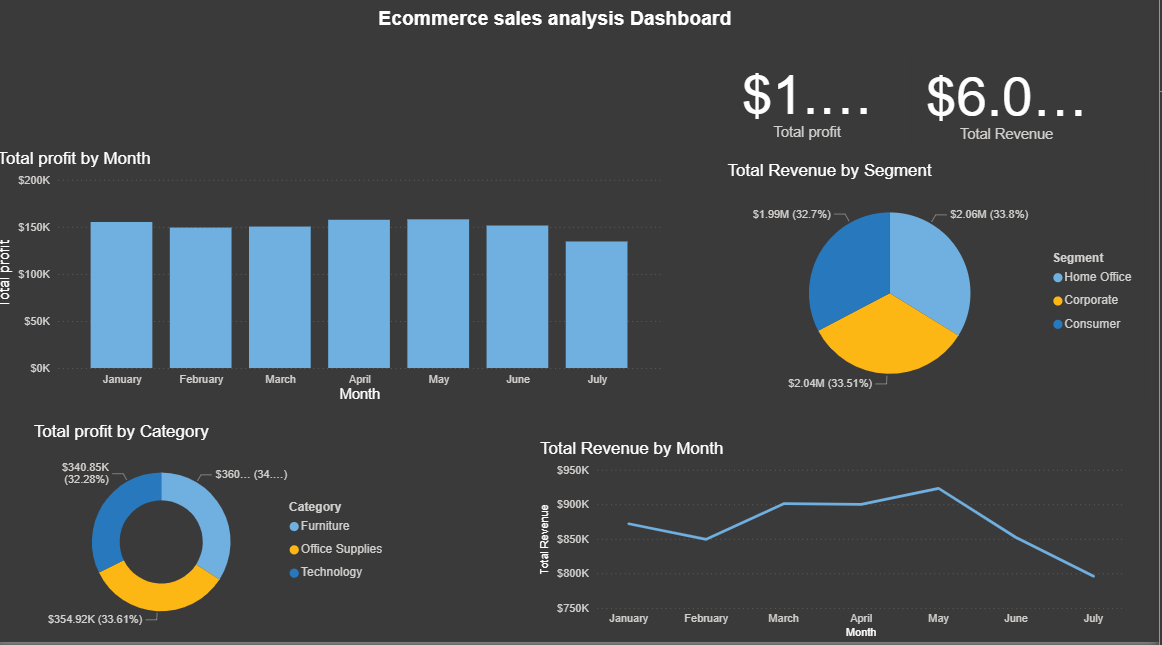

This screenshot's page, from the dashboard's own definition file:
{"tool":"powerbi","page":{"name":"Page 1","canvas":[1280,720],"ordinal":0},"visuals":[{"type":"card","fields":{"Values":["ecommerce_sales_data.Total profit"]},"box":[801.4,67.2,185.2,109.8],"z":0},{"type":"lineChart","fields":{"Category":["ecommerce_sales_data.OrderDate.Variation.Date Hierarchy.Year","ecommerce_sales_data.OrderDate.Variation.Date Hierarchy.Quarter","ecommerce_sales_data.OrderDate.Variation.Date Hierarchy.Month","ecommerce_sales_data.OrderDate.Variation.Date Hierarchy.Day"],"Y":["ecommerce_sales_data.Total Revenue"]},"box":[595.5,495.4,651.8,225],"z":1000},{"type":"donutChart","fields":{"Y":["ecommerce_sales_data.Total profit"],"Category":["ecommerce_sales_data.Category"]},"box":[39.8,477.5,402.1,242.9],"z":2000},{"type":"clusteredColumnChart","fields":{"Category":["ecommerce_sales_data.OrderDate.Variation.Date Hierarchy.Year","ecommerce_sales_data.OrderDate.Variation.Date Hierarchy.Quarter","ecommerce_sales_data.OrderDate.Variation.Date Hierarchy.Month","ecommerce_sales_data.OrderDate.Variation.Date Hierarchy.Day"],"Y":["ecommerce_sales_data.Total profit"]},"box":[0,177,738.3,284],"z":3000},{"type":"card","fields":{"Values":["ecommerce_sales_data.Total Revenue"]},"box":[1008.6,71.4,208.6,105.7],"z":4000},{"type":"pieChart","fields":{"Category":["ecommerce_sales_data.Segment"],"Y":["ecommerce_sales_data.Total Revenue"]},"box":[801.4,190.7,462.4,270.3],"z":5000},{"type":"textbox","box":[325.2,17.8,583.2,41.2],"z":6000}]}

Visuals, with their boxes in screenshot pixels (x1, y1, x2, y2), scaled from the page's 1280x720 canvas onto the 1162x645 screenshot:
card - ecommerce_sales_data.Total profit: box(728, 60, 896, 159)
lineChart - ecommerce_sales_data.OrderDate.Variation.Date Hierarchy.Year x ecommerce_sales_data.OrderDate.Variation.Date Hierarchy.Quarter: box(541, 444, 1132, 644)
donutChart - ecommerce_sales_data.Total profit x ecommerce_sales_data.Category: box(36, 428, 401, 644)
clusteredColumnChart - ecommerce_sales_data.OrderDate.Variation.Date Hierarchy.Year x ecommerce_sales_data.OrderDate.Variation.Date Hierarchy.Quarter: box(0, 159, 670, 413)
card - ecommerce_sales_data.Total Revenue: box(916, 64, 1105, 159)
pieChart - ecommerce_sales_data.Segment x ecommerce_sales_data.Total Revenue: box(728, 171, 1147, 413)
textbox: box(295, 16, 825, 53)
